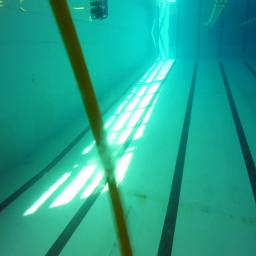Side: (88, 8, 110, 20)
